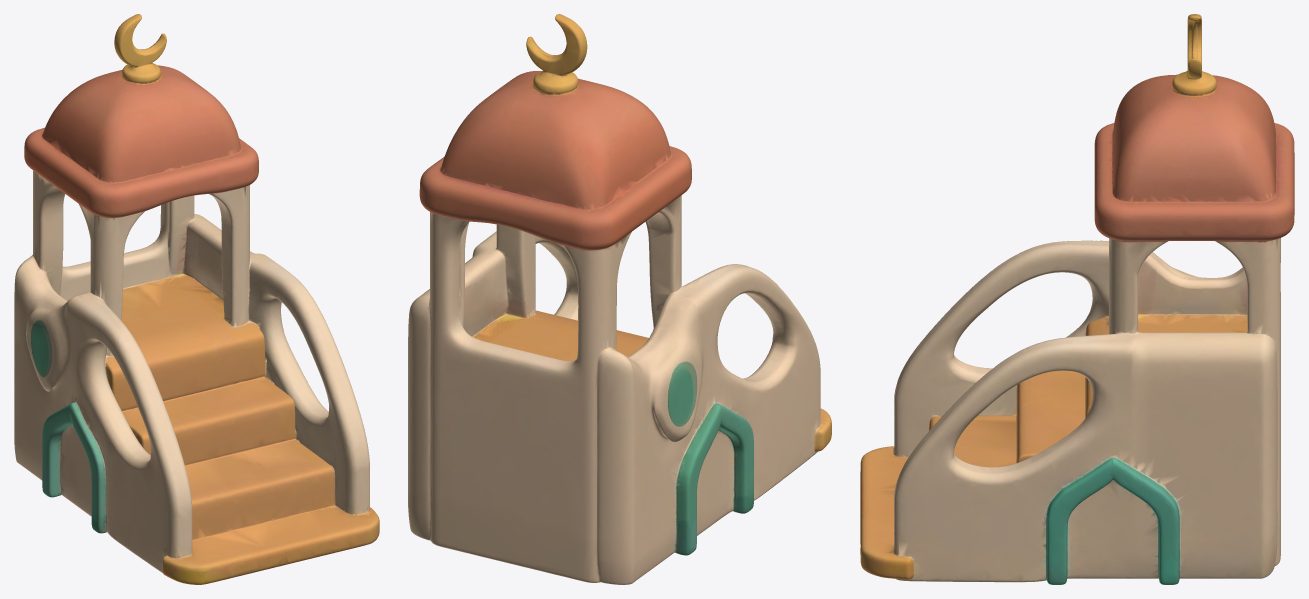
Rendered from minbar-variant-10-minimal-sand-pavilion.glb.
The picture shows the model from 3 angles, left to right: view 1: azimuth 30°, elevation 25°; view 2: azimuth 150°, elevation 25°; view 3: azimuth 270°, elevation 25°; orthographic projection. The views are drawn at different scales.
Parts seen in each view (by area): view 1: mesh_node; view 2: mesh_node; view 3: mesh_node.
Boxes of the visible parts, x1,y1,x2,y2 form: mesh_node: (14,14,379,584); mesh_node: (408,14,831,584); mesh_node: (860,14,1294,584).
Size of the model in its own units: 0.9556 by 1.9 by 1.47.
Materials: 1 (1 with a texture image).
